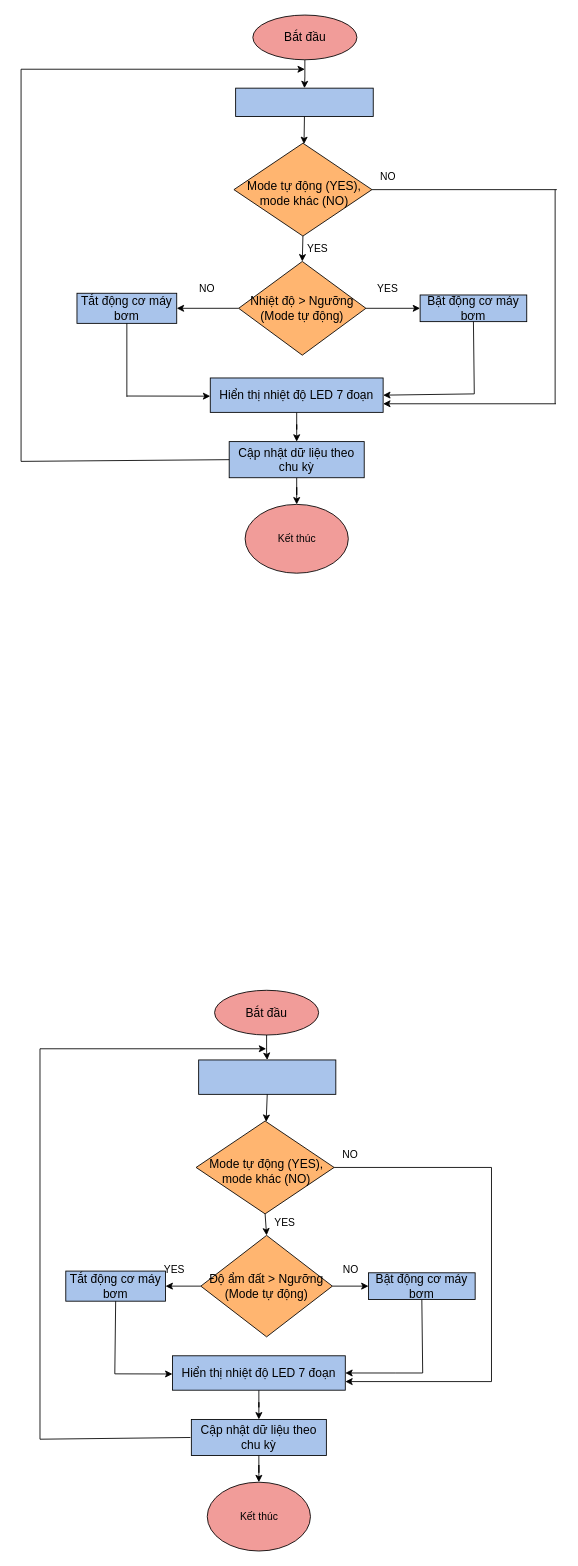
The diagram is 578 pixels wide and 1566 high, and some of its shapes have lost their labels. The shapes that lost their labels are listed below. From the top down, each one's centre as x and y in pixels, then its label:
the point at 304,102: Đọc dữ liệu từ DHT11
the point at 267,1076: Đọc dữ liệu từ cảm biến độ ẩm đất
